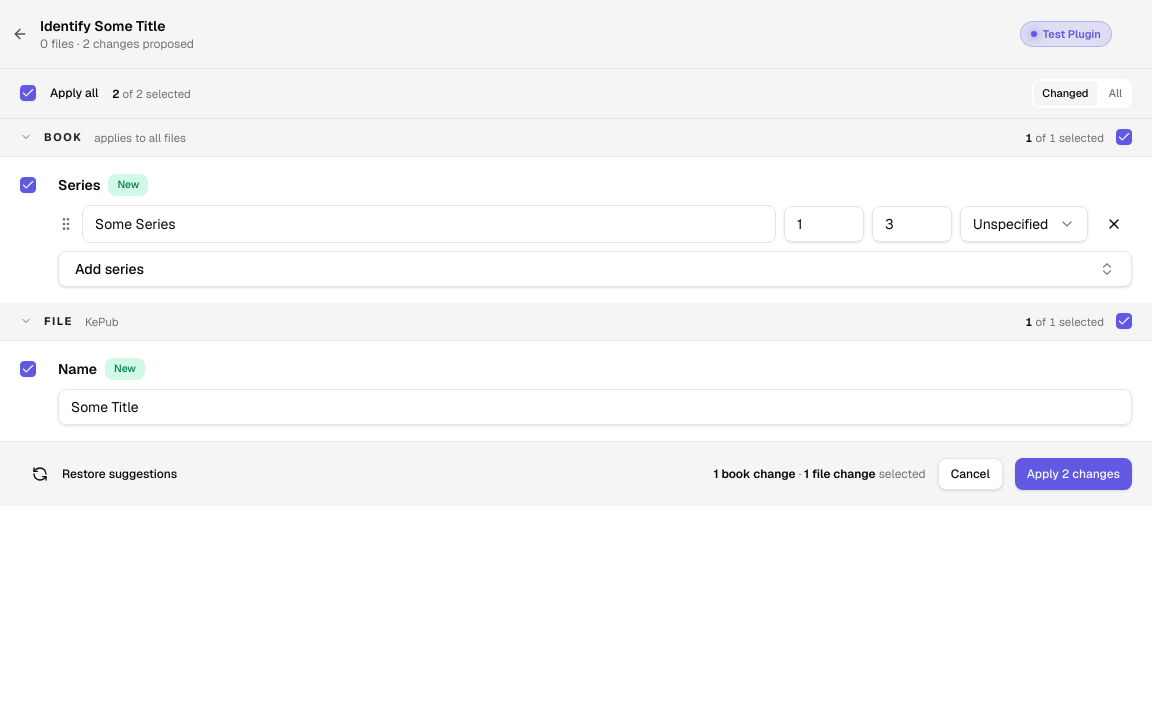
Test: IdentifyReviewForm component › rejects incomplete and reversed series ranges
Clear the number field named "Series start" at x=824, y=224, box [784, 206, 864, 242]
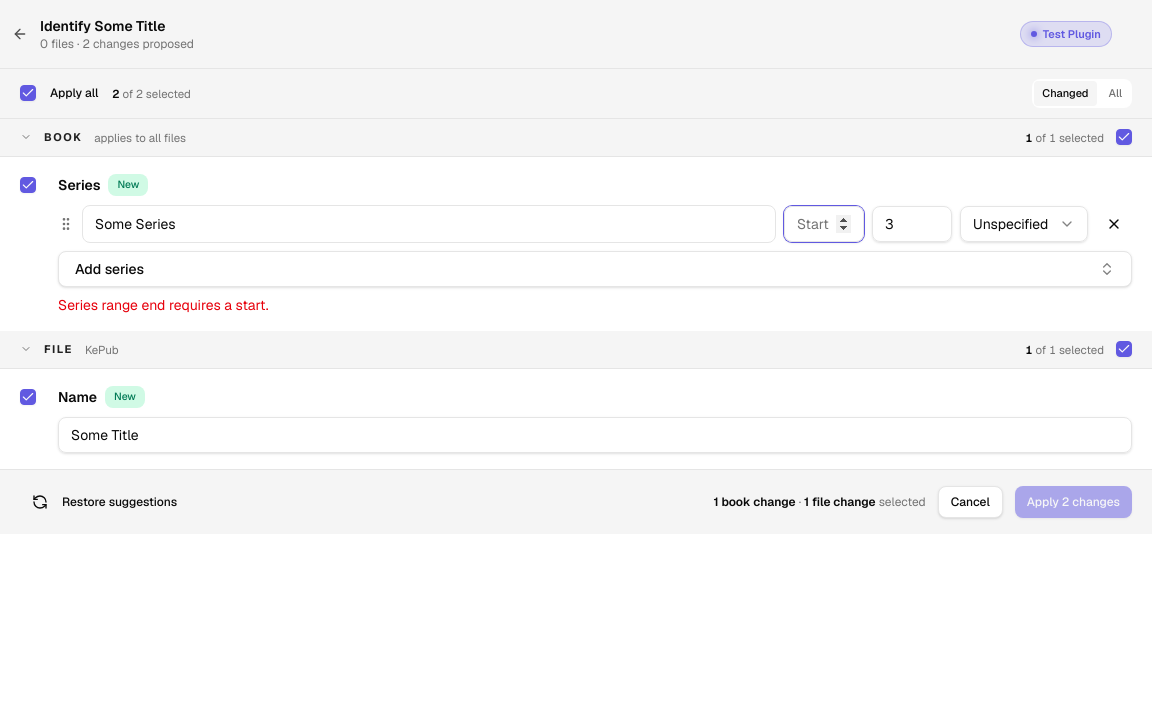
Expected: the message shows "Series range end requires a start", [58, 296, 269, 314]
Expected: the button "Apply 2 changes" is disabled, [1015, 486, 1132, 518]
Type "3" into the number field named "Series start" at x=824, y=224, box [784, 206, 864, 242]
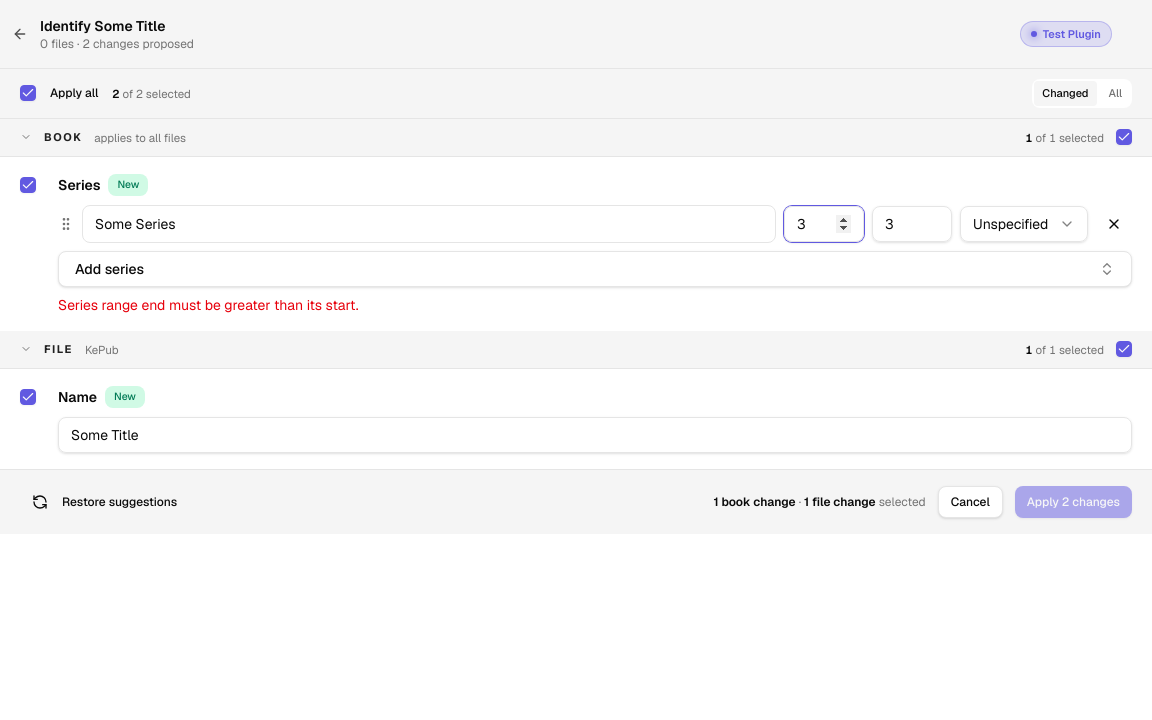
Expected: the button "Apply 2 changes" is disabled, [1015, 486, 1132, 518]
Expected: the message shows "Series range end must be greater than its start", [58, 296, 359, 314]
